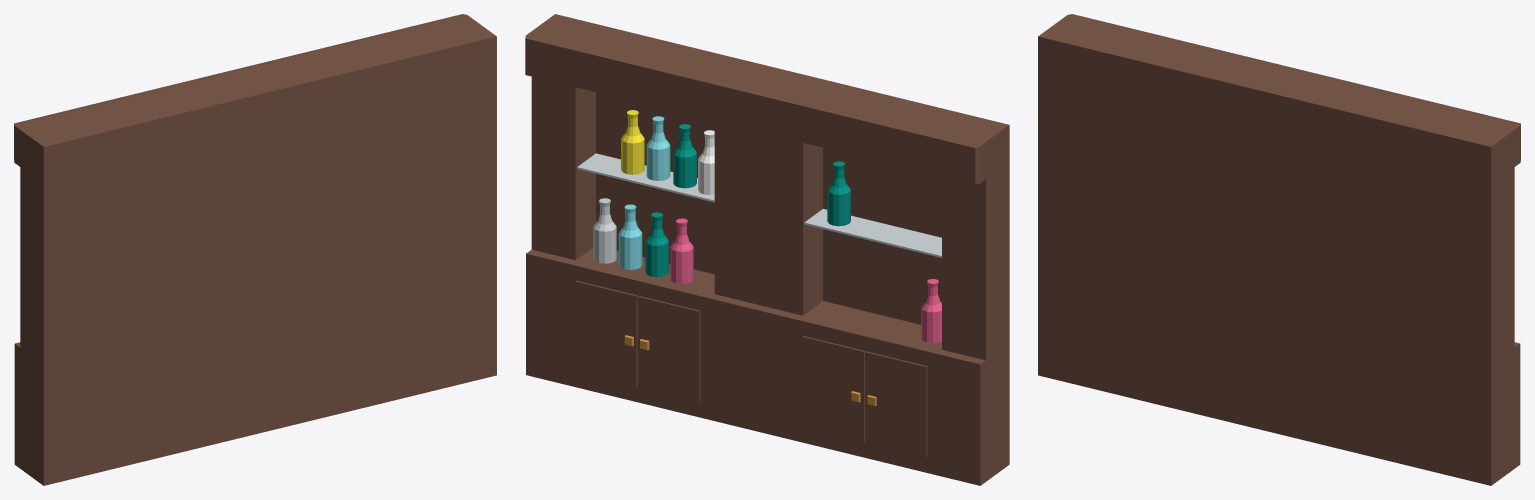
Rendered from Liquor counter.fbx.
3 renders of one model, left to right at view 1: azimuth 30°, elevation 25°; view 2: azimuth 150°, elevation 25°; view 3: azimuth 330°, elevation 25°, orthographic.
Parts seen in each view (by area): view 1: liquor Counter; view 2: liquor Counter; view 3: liquor Counter.
Boxes of the visible parts, left/top/right/bottom form: liquor Counter: left=14, top=14, right=496, bottom=485; liquor Counter: left=525, top=14, right=1009, bottom=485; liquor Counter: left=1038, top=14, right=1520, bottom=485.
Size of the model in its own units: 712 by 509 by 87.
